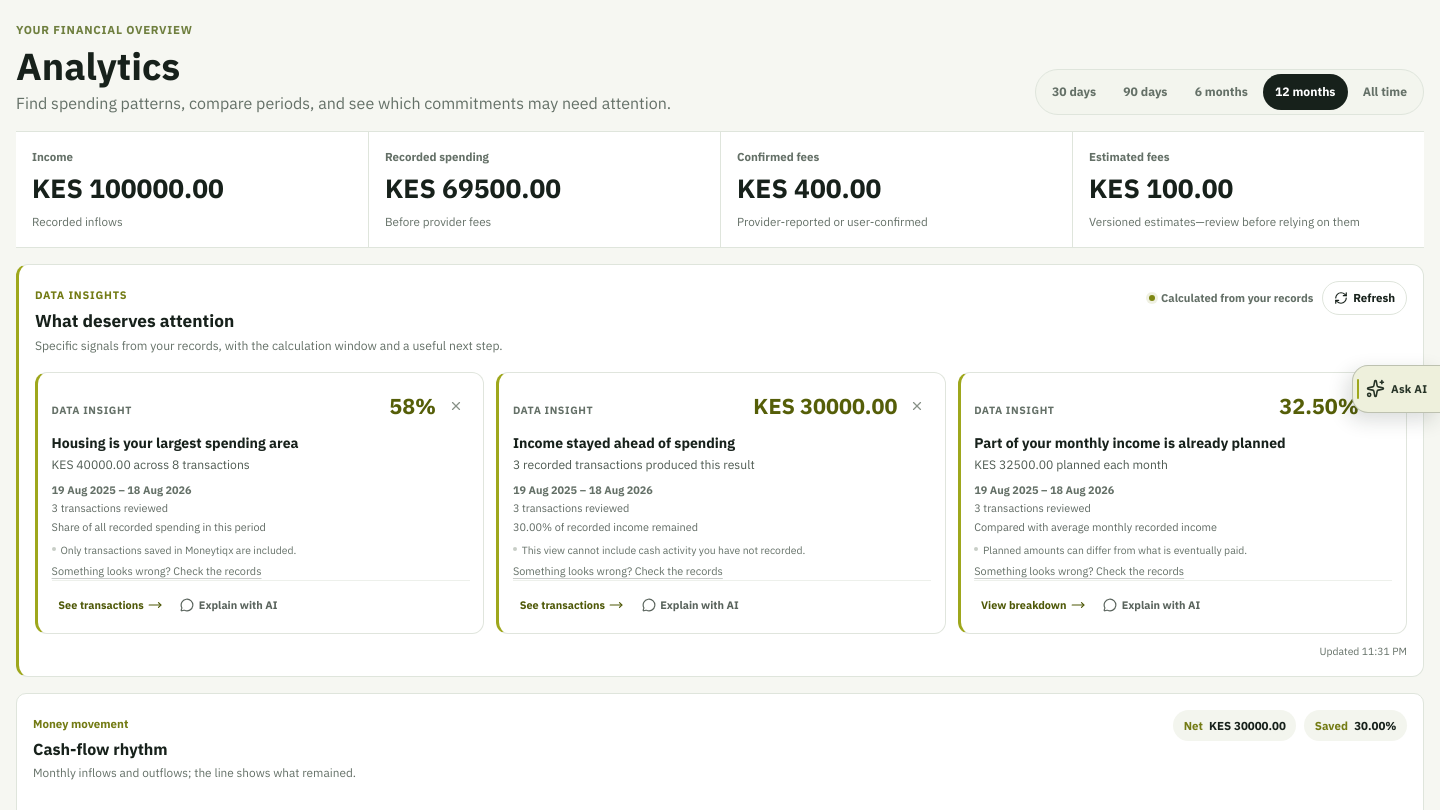
Test: Analytics › asks the bounded assistant and previews an opt-in weekly review
This screenshot has width=1440, height=810.
Expected: the heading "Analytics" is shown, [16,41,180,90]
Click the button with aria-label "Open financial assistant" at {"x": 1396, "y": 389}, box [1352,365,1439,413]
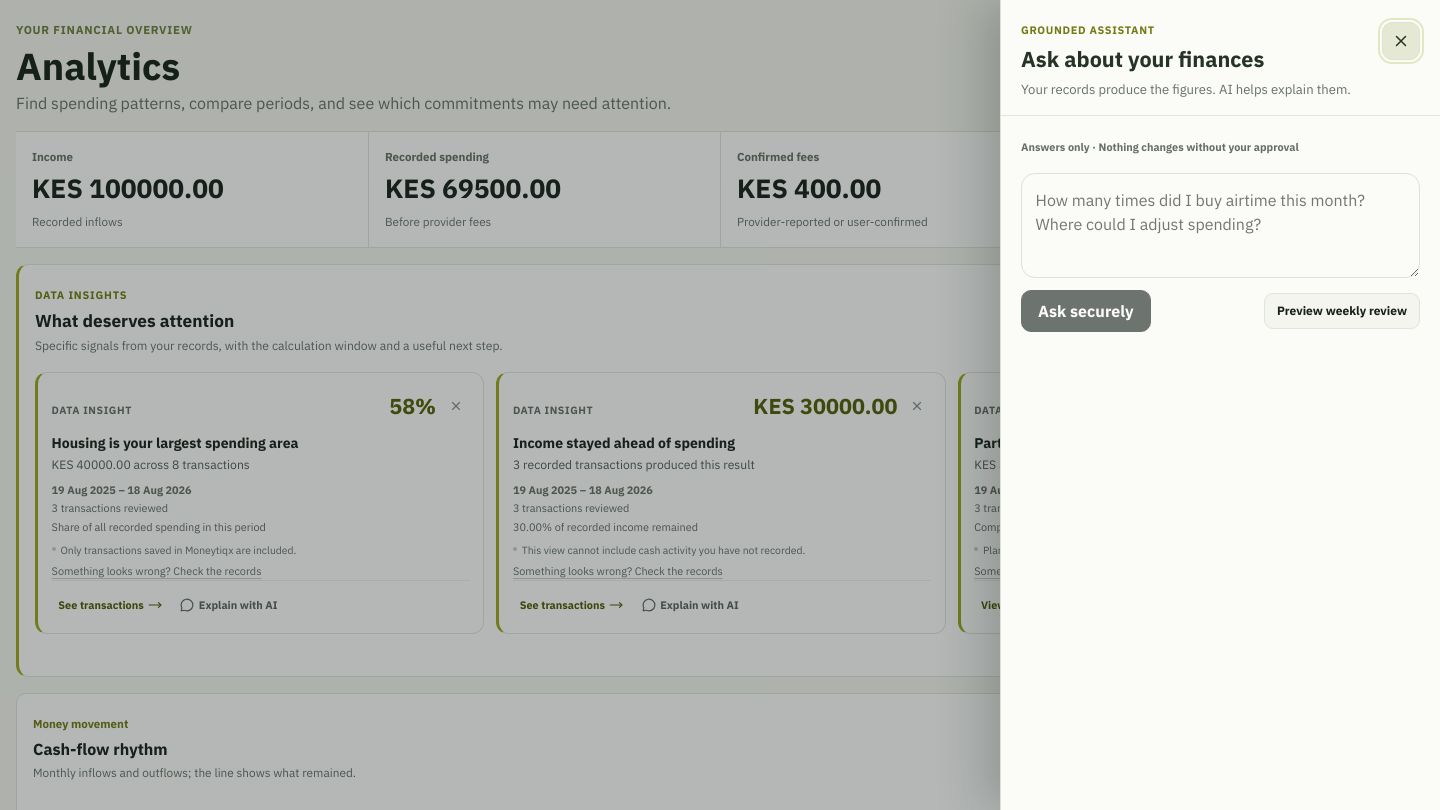
Now the dialog "Ask about your finances" is shown, box [1000,0,1439,809]
Type "How often did I buy airtime this month?" into the text box named "Question about your finances" at {"x": 1220, "y": 226}, box [1021,173,1420,278]
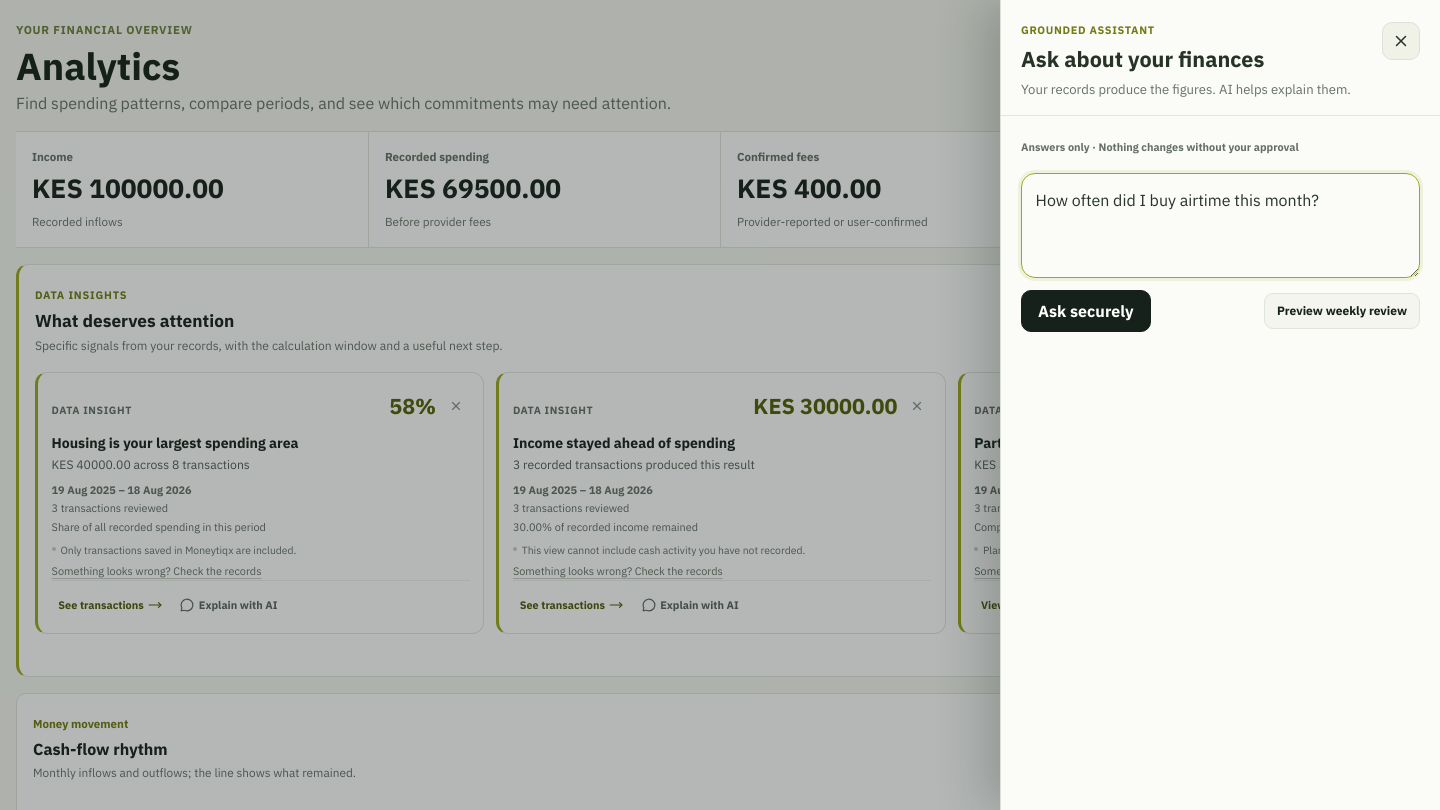
Click the button "Ask securely" at {"x": 1086, "y": 311}, box [1021,290,1151,332]
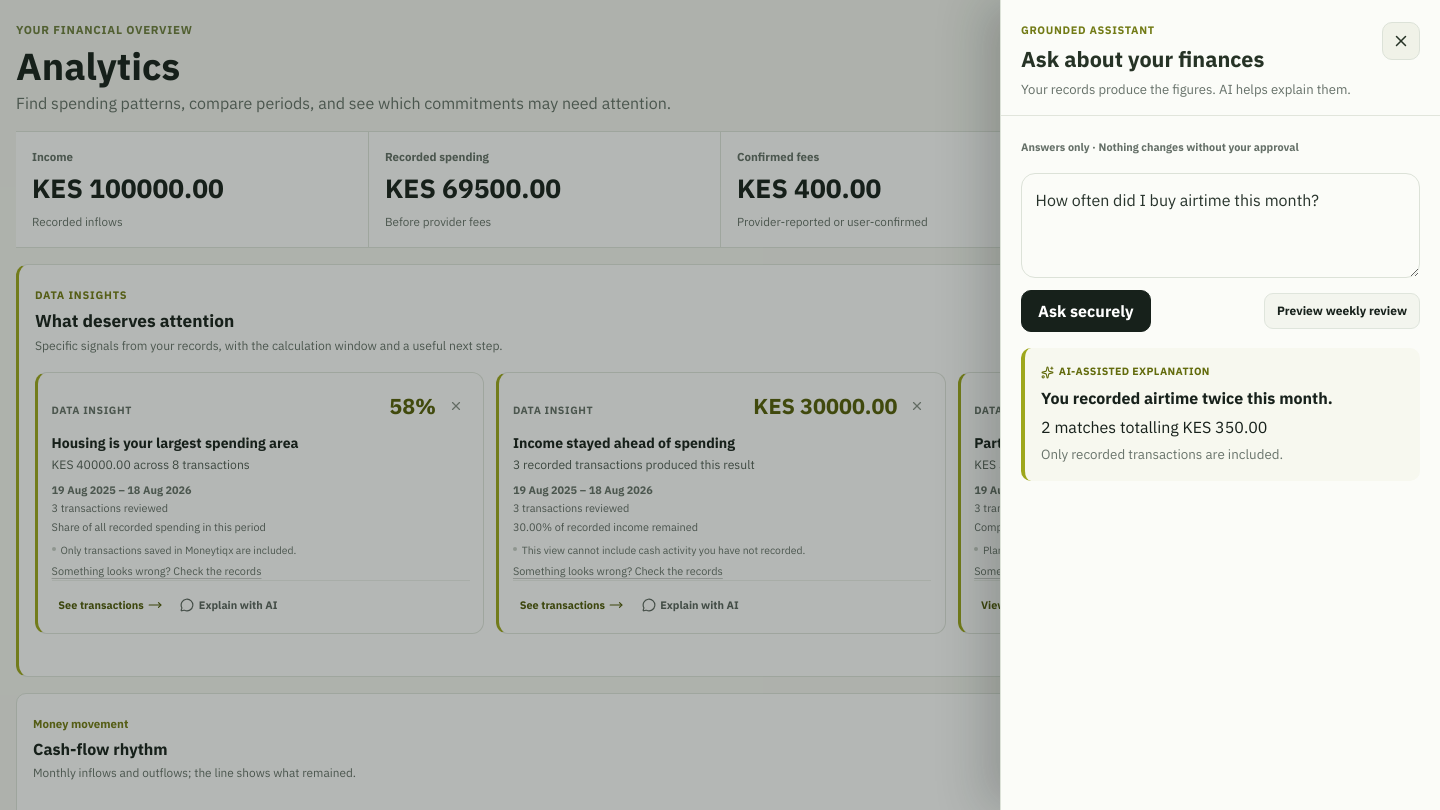
Now the text "You recorded airtime twice this month." is shown, box [1041,388,1333,408]
Click the button "Preview weekly review" at {"x": 1342, "y": 311}, box [1264,293,1420,329]
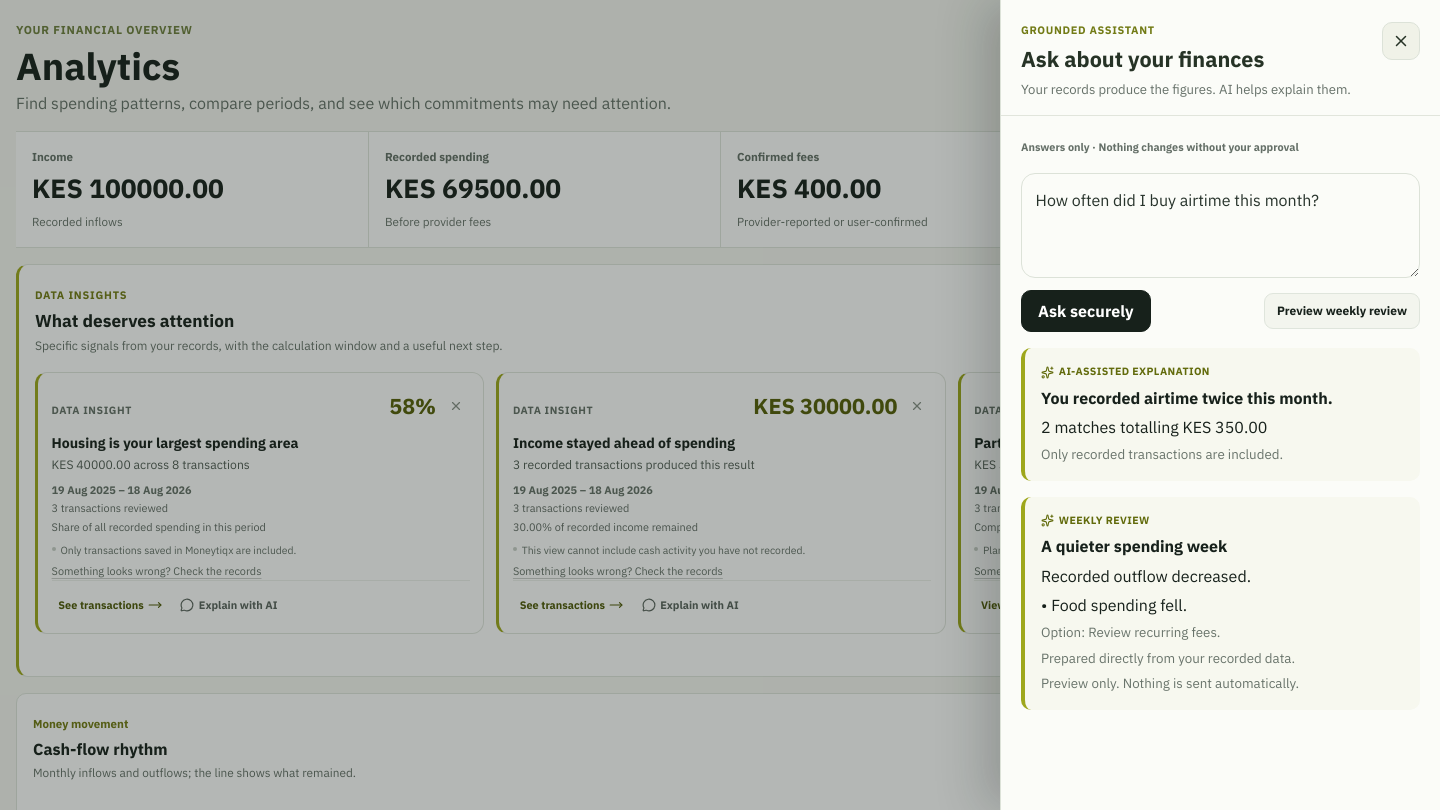
Now the text "A quieter spending week" is shown, box [1041,536,1227,556]
Now the text "Weekly review" is shown, box [1041,513,1150,527]
Now the text "Prepared directly from your recorded data." is shown, box [1041,648,1295,666]
